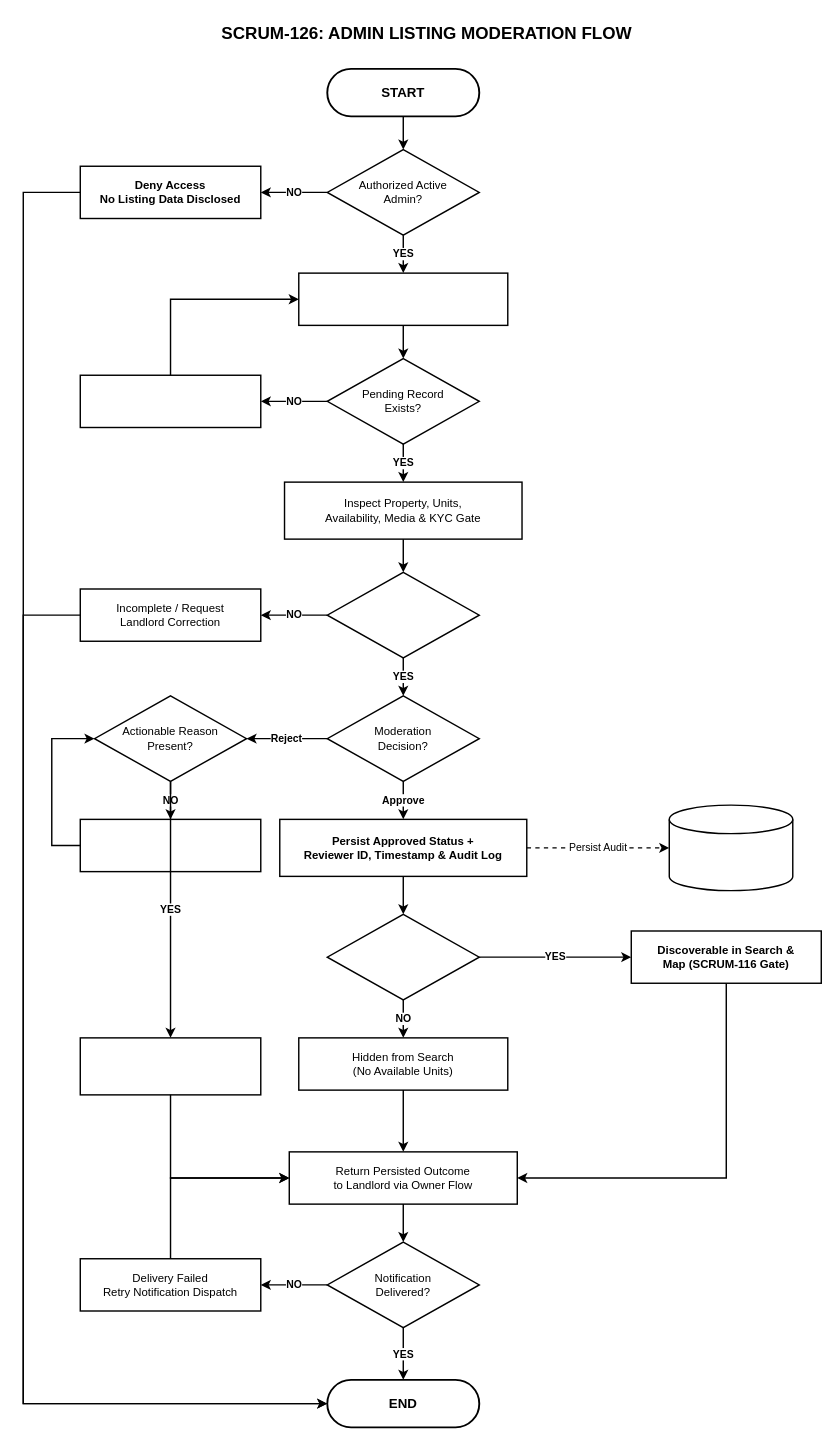
Image size: 839x1444. Some labels were removed from this diagram. Here are the shapes that lost their labels. From the top down, the box of each, then its label:
(298, 272, 508, 326): Retrieve Eligible Pending Listing Queue
(79, 374, 261, 428): Stale / Reviewed Record Reload Queue
(326, 571, 480, 658): Eligible Under Policy?
(79, 818, 261, 872): Prompt Required Reason (No State Mutation)
(668, 804, 793, 891): Listings & Audit DB
(326, 913, 480, 1000): Eligible Unit Available?
(79, 1037, 261, 1095): Persist Rejected Status + Reason & Admin Audit Log
